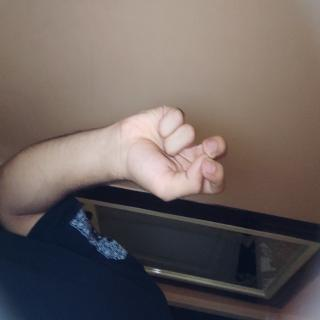QAAF: (77, 118, 153, 284)
